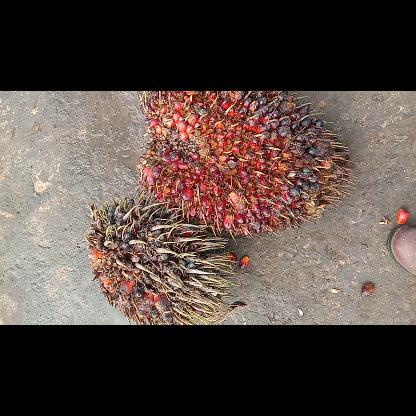TBS abnormal: (86, 192, 238, 324)
TBS masak: (138, 91, 354, 233)
